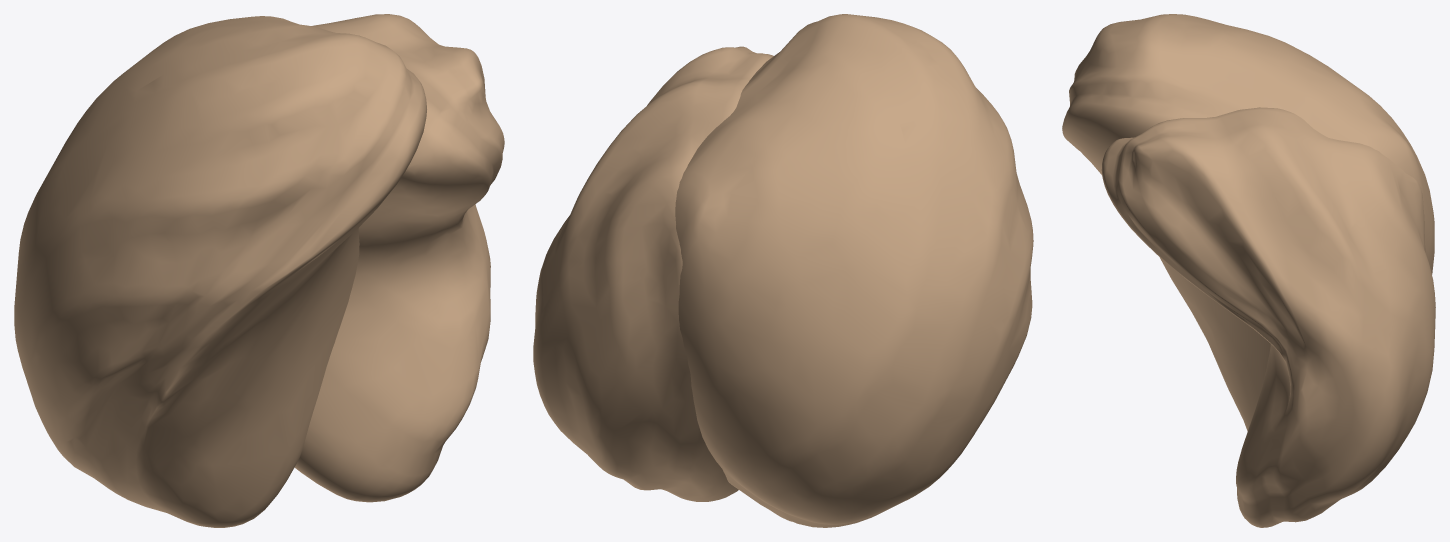
The model's file is hair-7-68b7f115.glb.
3 views of the same model, side by side, from view 1: azimuth 30°, elevation 25°; view 2: azimuth 150°, elevation 25°; view 3: azimuth 270°, elevation 25° (orthographic). The views are drawn at different scales.
Visible parts, largest first — view 1: Geo_White_Older_Female_Hair_7.001; view 2: Geo_White_Older_Female_Hair_7.001; view 3: Geo_White_Older_Female_Hair_7.001.
Boxes of the visible parts, x1,y1,x2,y2 form: Geo_White_Older_Female_Hair_7.001: [14, 14, 504, 527]; Geo_White_Older_Female_Hair_7.001: [533, 14, 1033, 527]; Geo_White_Older_Female_Hair_7.001: [1062, 14, 1435, 527].
Bounding box in the file's own units: 2.26 × 2.4 × 1.84.
